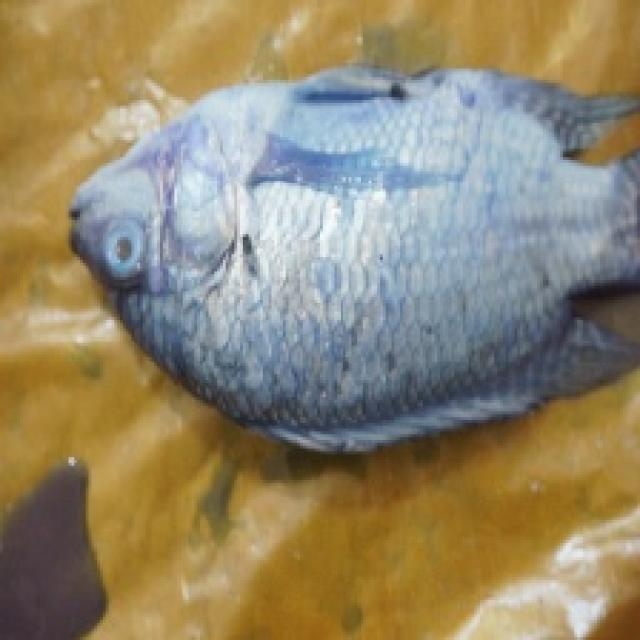Non-Fresh: (132, 75, 548, 431), (92, 212, 158, 289)
